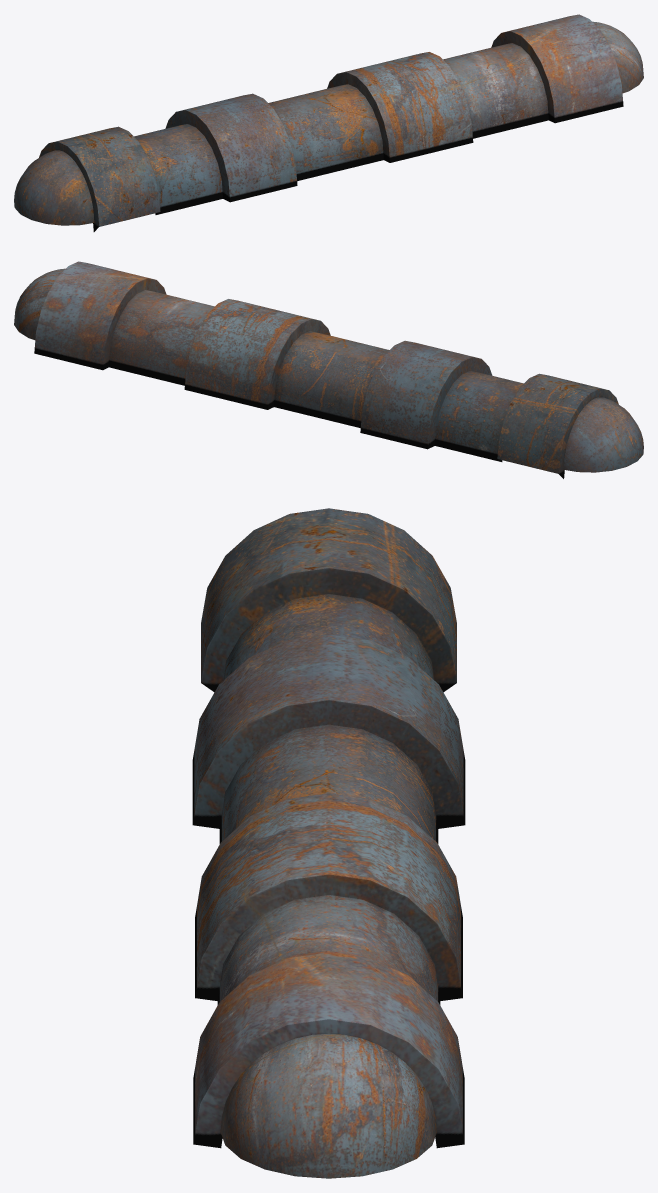
The picture shows the model from 3 angles, top to bottom: view 1: azimuth 30°, elevation 25°; view 2: azimuth 150°, elevation 25°; view 3: azimuth 270°, elevation 25°; orthographic projection. The views are drawn at different scales.
Visible parts, largest first — view 1: pSphere3; view 2: pSphere3; view 3: pSphere3.
Part boxes in pixels (x1,y1,x2,y2): pSphere3: [14, 14, 643, 231]; pSphere3: [14, 261, 643, 478]; pSphere3: [192, 508, 465, 1178].
Size of the model in its own units: 23.3 by 2.42 by 4.46.
Materials: 1 (1 with a texture image).
